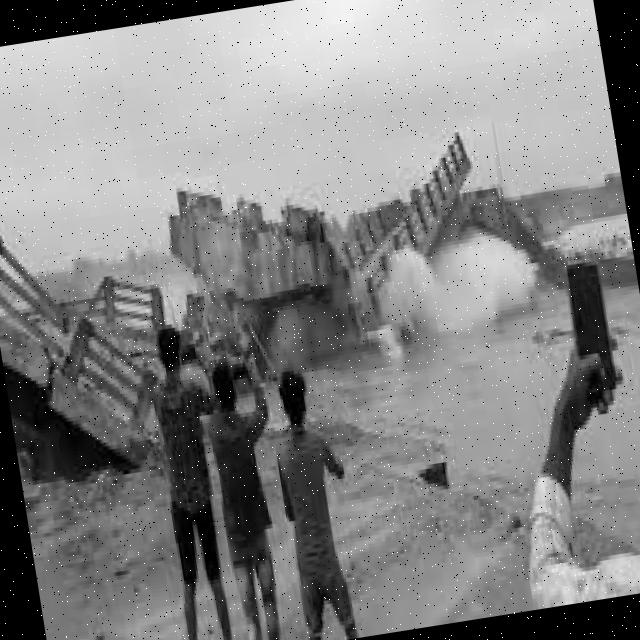bridge collapse: (0, 61, 605, 591)
